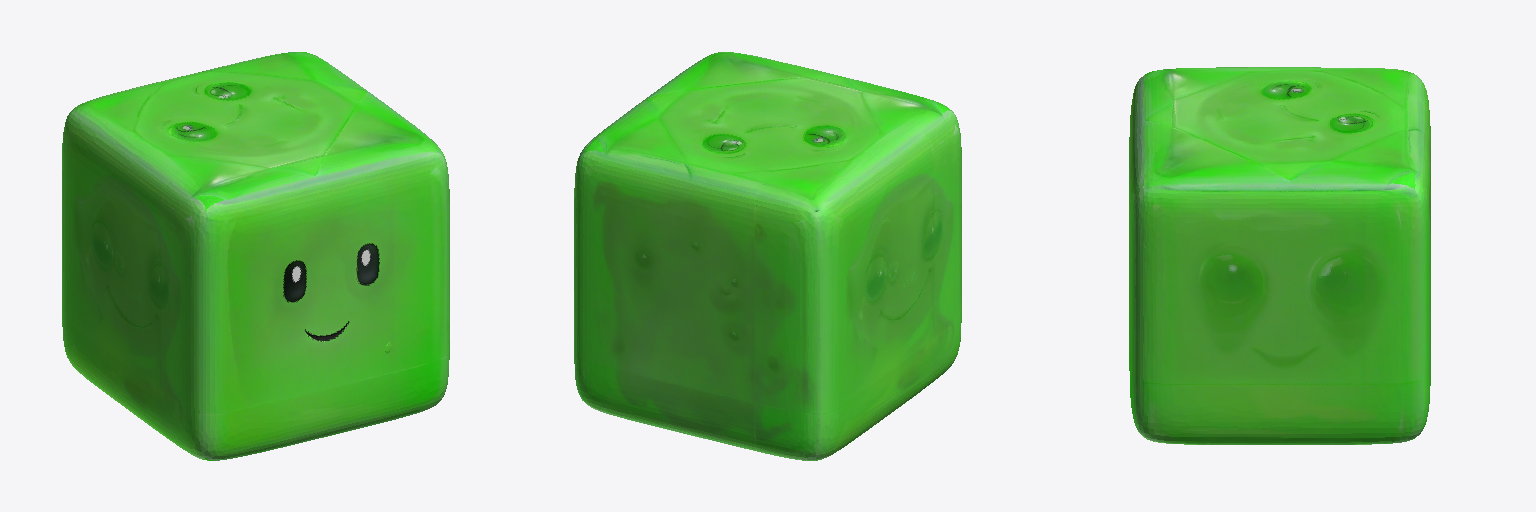
3 renders of one model, left to right at view 1: azimuth 30°, elevation 25°; view 2: azimuth 150°, elevation 25°; view 3: azimuth 270°, elevation 25°, orthographic.
Parts seen in each view (by area): view 1: Smiling_Slime_Cube_[number redacted]_texture; view 2: Smiling_Slime_Cube_[number redacted]_texture; view 3: Smiling_Slime_Cube_[number redacted]_texture.
Boxes of the visible parts, x1=… form: Smiling_Slime_Cube_[number redacted]_texture: x1=62, y1=52, x2=449, y2=460; Smiling_Slime_Cube_[number redacted]_texture: x1=574, y1=52, x2=961, y2=460; Smiling_Slime_Cube_[number redacted]_texture: x1=1129, y1=67, x2=1430, y2=444.
Bounding box in the file's own units: 2 × 2 × 2.
Materials: 1 (1 with a texture image).